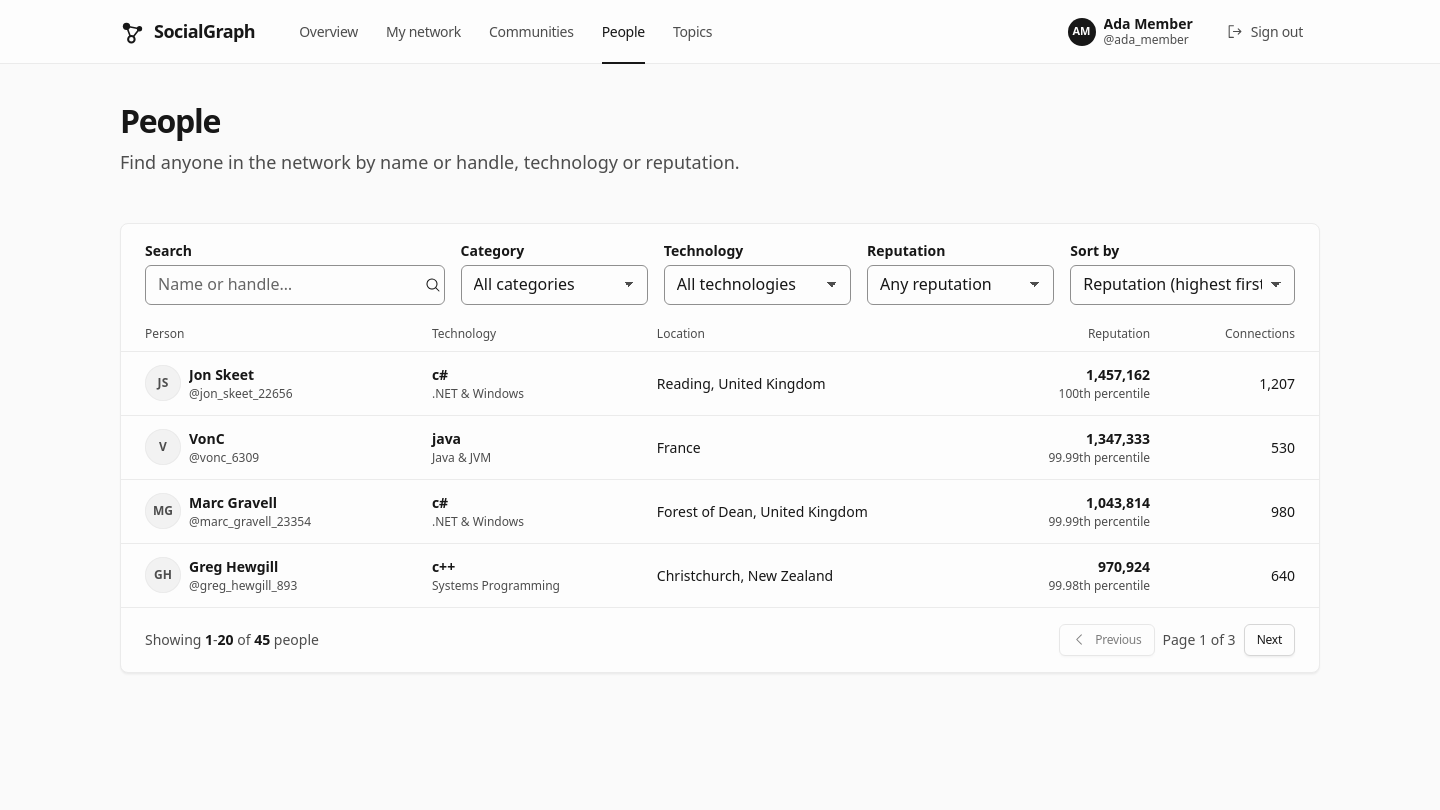
Test case: People › pages through results and keeps the page in the URL
Expected: the heading "People" is shown, [120,99,220,142]
Expected: the navigation bar named "Pagination" shows "Showing 1-20 of 45 people", [121,607,1319,672]
Step 1. Click the button "Next" → [1269, 640], box [1244,624,1295,656]
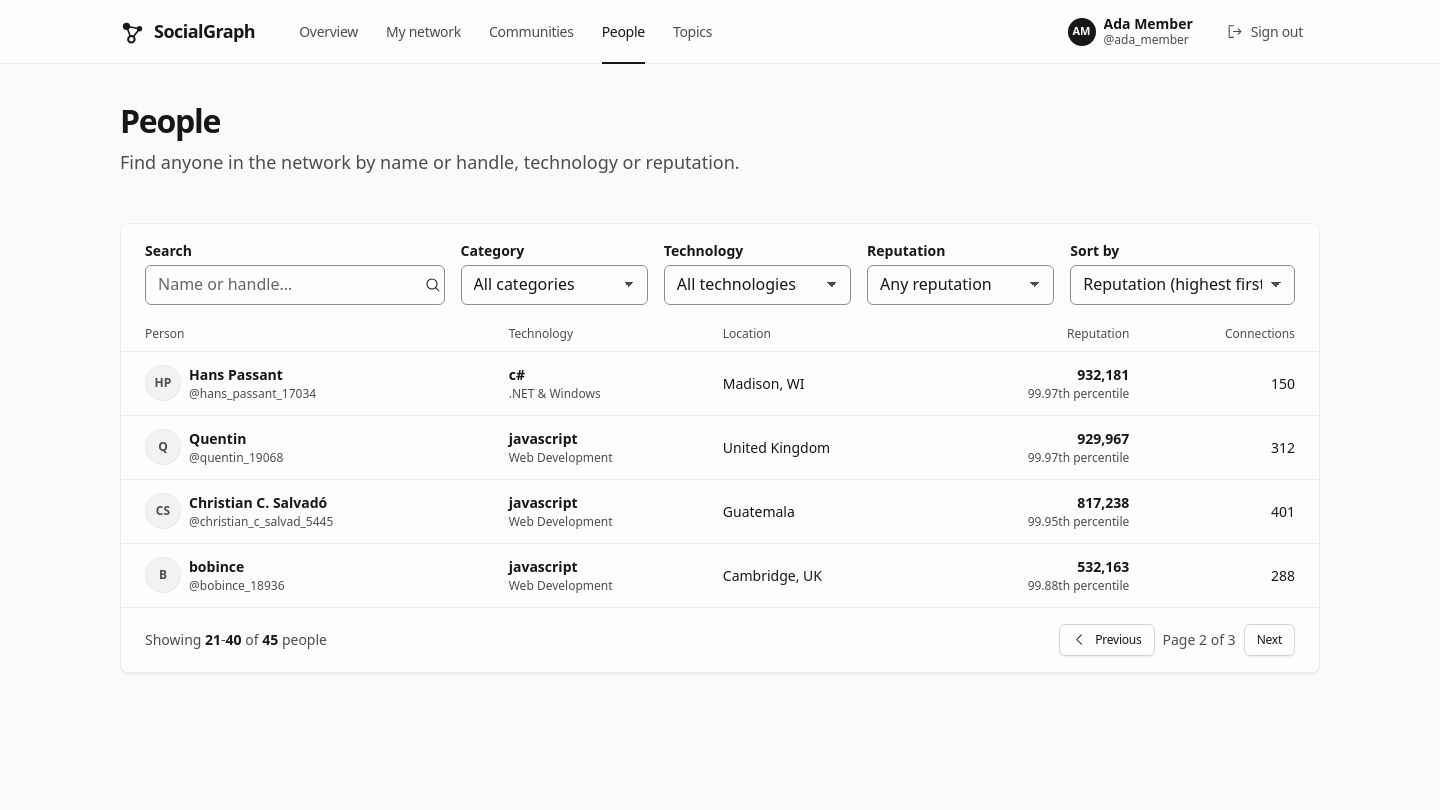
Result: the navigation bar named "Pagination" shows "Page 2 of 3" at [121,607,1319,672]
Result: the row that starts with "Hans Passant" is shown at [145,364,316,403]
// Page 1 comes back from the cache.
Step 2. Click the button "Previous" → [1107, 640], box [1059,624,1154,656]
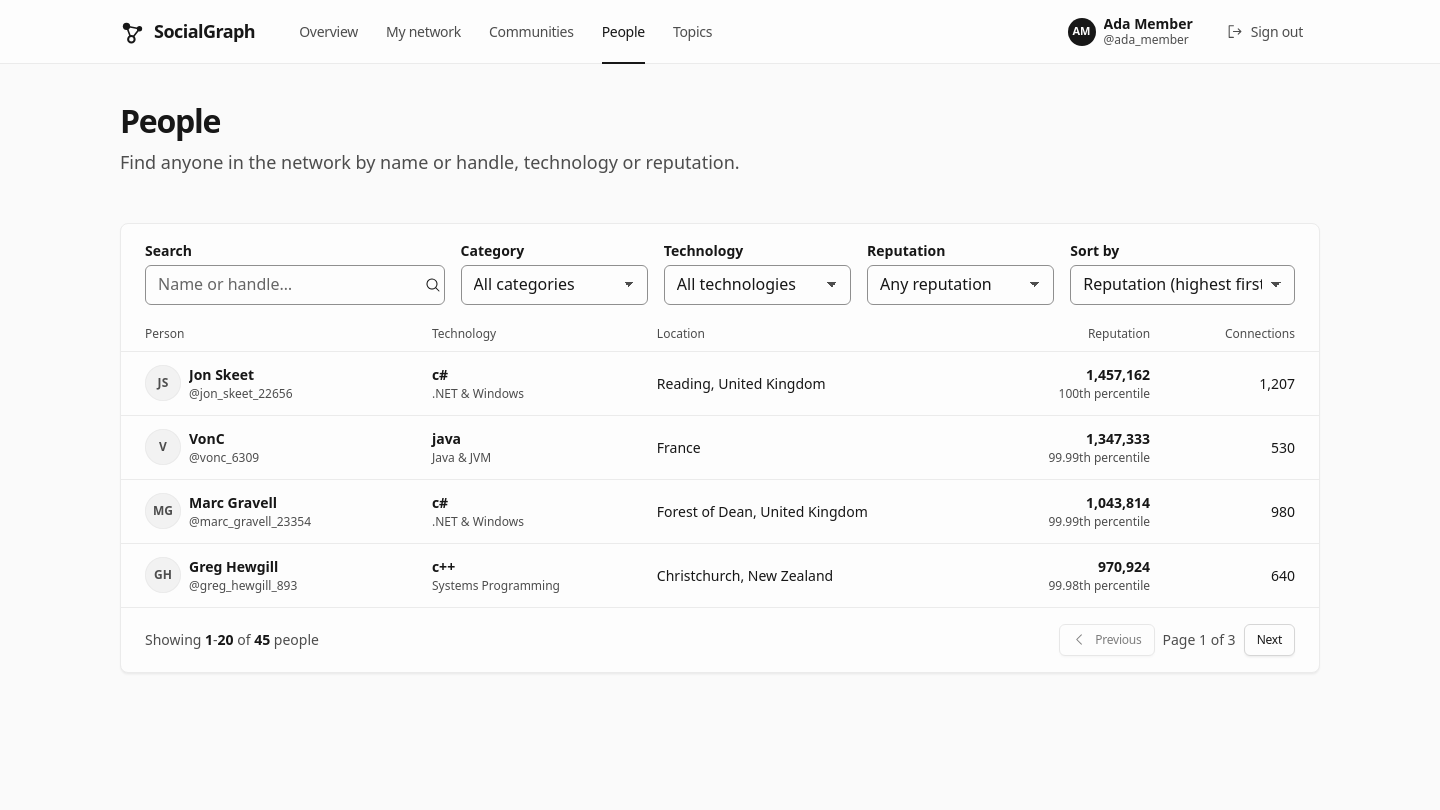
Result: the row that starts with "Jon Skeet" is shown at [145,364,293,403]
